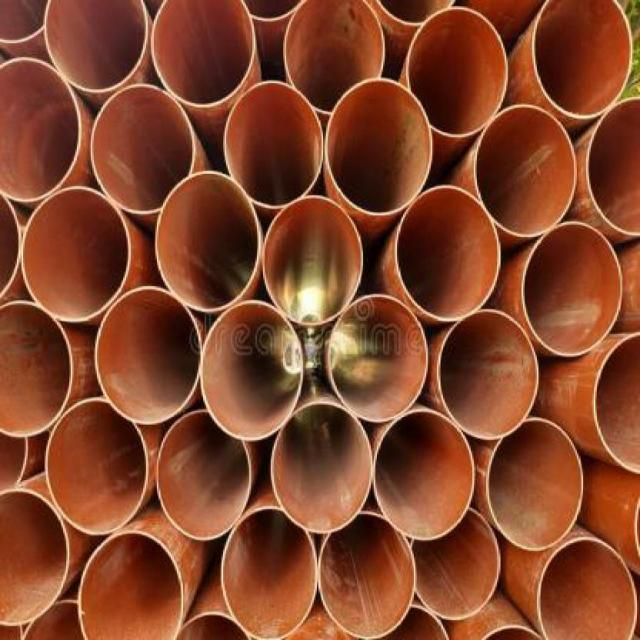pipe: (95, 286, 203, 426), (21, 185, 132, 321), (325, 77, 432, 217), (156, 170, 261, 312), (395, 185, 502, 321), (45, 396, 148, 536), (201, 300, 303, 440), (89, 84, 196, 214), (474, 104, 577, 238), (437, 309, 542, 440), (522, 221, 622, 356), (373, 409, 475, 541), (486, 416, 585, 552), (271, 402, 373, 533), (220, 506, 319, 640), (223, 79, 325, 209), (407, 7, 509, 137), (261, 196, 363, 324), (318, 510, 418, 640), (329, 295, 429, 423), (155, 409, 251, 540), (531, 0, 633, 120), (0, 56, 83, 202), (283, 0, 386, 114), (78, 531, 185, 639), (151, 0, 256, 108), (537, 535, 639, 639), (0, 300, 74, 437), (411, 509, 500, 620), (44, 0, 149, 94), (0, 488, 71, 627), (585, 96, 639, 238), (593, 331, 640, 475), (378, 599, 449, 640), (0, 189, 24, 306), (0, 0, 54, 44), (172, 612, 252, 640), (373, 1, 465, 24), (0, 427, 29, 493), (231, 0, 312, 21)
